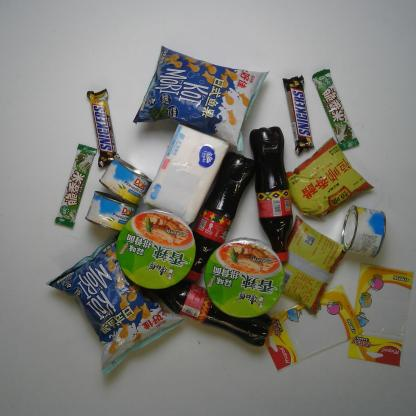Canned Food: (97, 155, 155, 207), (339, 202, 389, 262), (84, 190, 140, 234)
Chocolate: (310, 66, 361, 152), (53, 142, 99, 231), (280, 73, 317, 159), (84, 88, 122, 169)
Drink: (136, 270, 276, 350), (184, 149, 259, 284), (246, 124, 294, 266)
Instant Noodles: (113, 206, 197, 292), (203, 235, 287, 320)
Puffed Food: (44, 231, 187, 377), (131, 42, 271, 153)
Seasoner: (280, 134, 376, 222), (273, 212, 350, 316)
Stationery: (259, 280, 366, 375), (344, 258, 415, 369)
Tissue: (141, 120, 232, 230)
